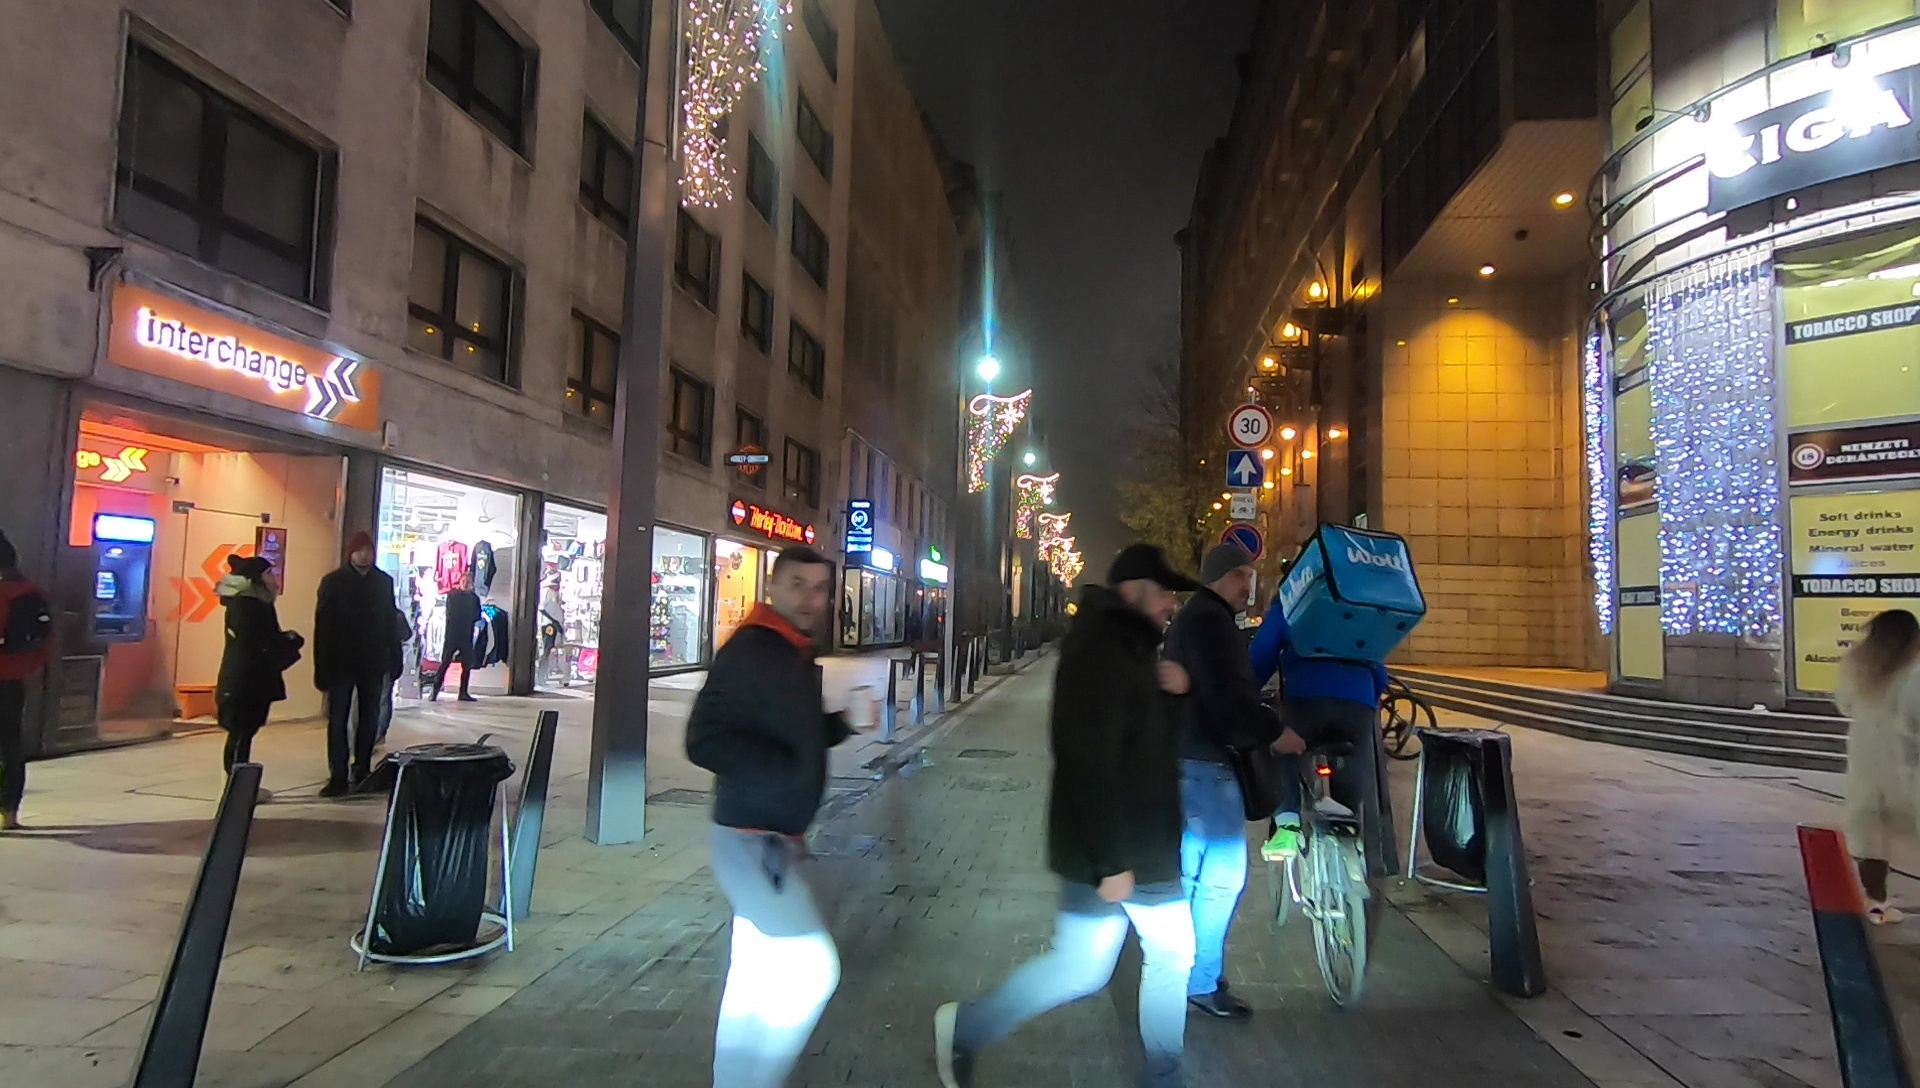person: (945, 534, 1192, 1088), (693, 541, 865, 1087), (1165, 543, 1254, 1024), (1849, 606, 1920, 912), (1, 524, 62, 832), (221, 549, 297, 791), (321, 541, 388, 791), (430, 571, 480, 702)
